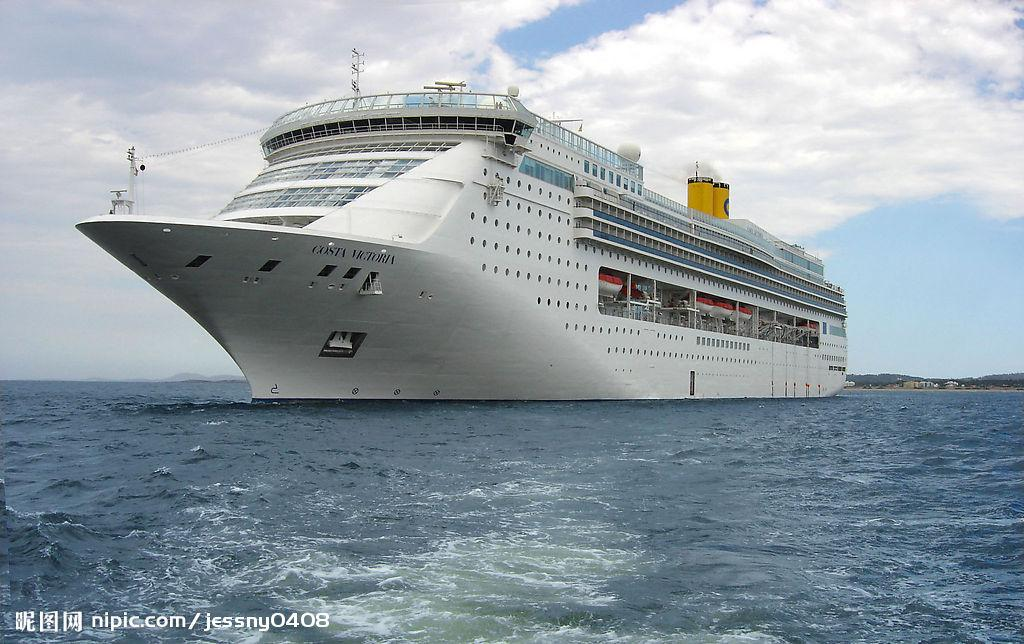youlun: (73, 51, 852, 403)
